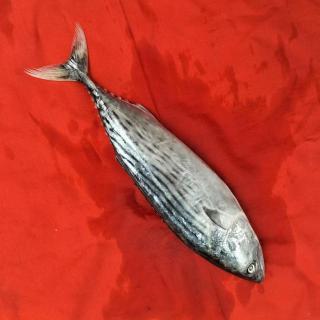Ikan: (24, 30, 281, 287)
